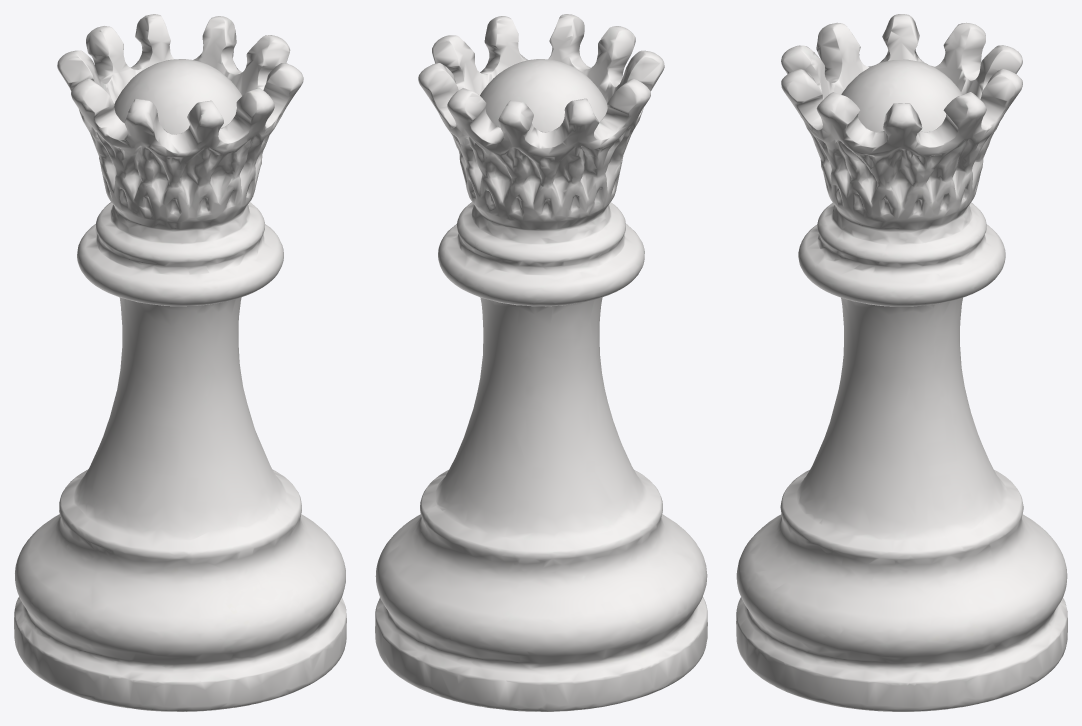
The model's file is queen_med.glb.
3 views of the same model, side by side, from view 1: azimuth 30°, elevation 25°; view 2: azimuth 150°, elevation 25°; view 3: azimuth 270°, elevation 25° (orthographic).
Visible parts, largest first — view 1: world; view 2: world; view 3: world.
Boxes of the visible parts, x1,y1,x2,y2 form: world: [14, 14, 346, 711]; world: [375, 14, 707, 711]; world: [736, 14, 1067, 711].
Size of the model in its own units: 0.5061 by 0.9858 by 0.5062.
1 material, 1 textured.
